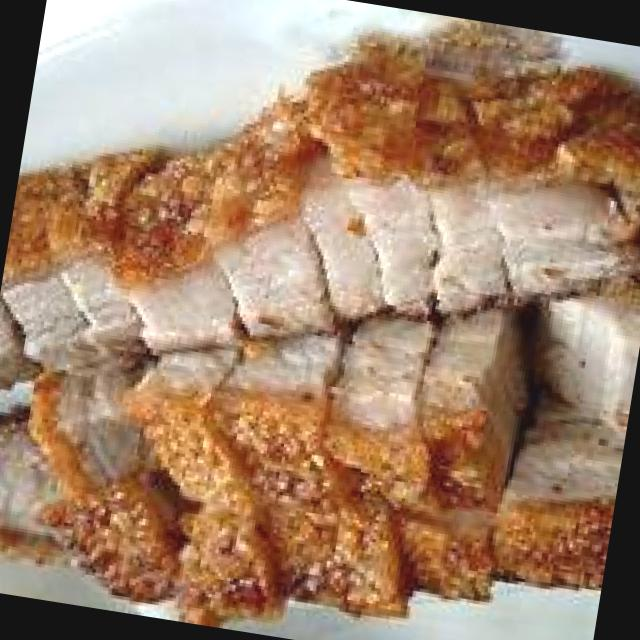thit chien: (0, 75, 640, 625)
